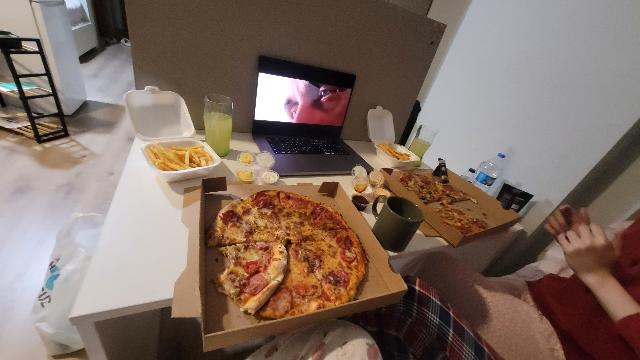Cam: (203, 89, 236, 157), (409, 123, 440, 163)
Organik: (214, 189, 369, 314), (406, 173, 473, 233), (146, 141, 203, 170)
Plastik: (30, 211, 108, 360), (121, 85, 198, 140), (474, 151, 506, 198), (365, 104, 400, 144)
